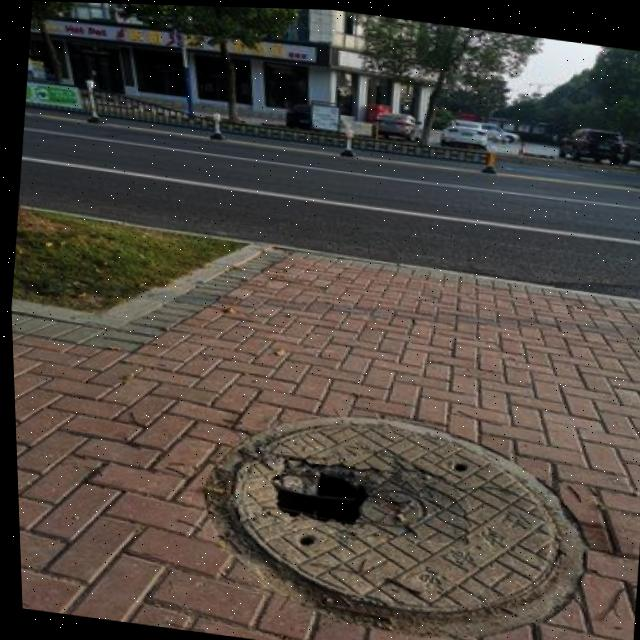manhole: (178, 384, 598, 640)
